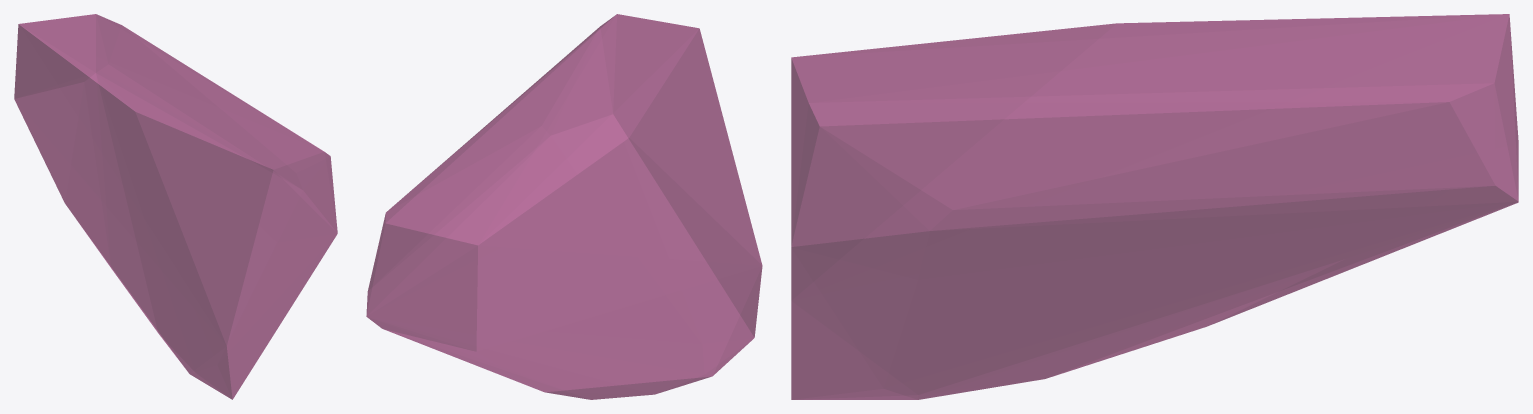
The picture shows the model from 3 angles, left to right: view 1: azimuth 30°, elevation 25°; view 2: azimuth 150°, elevation 25°; view 3: azimuth 270°, elevation 25°; orthographic projection. The views are drawn at different scales.
Parts seen in each view (by area): view 1: Shape_IndexedFaceSet.007_Shape_IndexedFaceSet.4761; view 2: Shape_IndexedFaceSet.007_Shape_IndexedFaceSet.4761; view 3: Shape_IndexedFaceSet.007_Shape_IndexedFaceSet.4761.
Boxes of the visible parts, x1,y1,x2,y2 form: Shape_IndexedFaceSet.007_Shape_IndexedFaceSet.4761: [14, 14, 337, 399]; Shape_IndexedFaceSet.007_Shape_IndexedFaceSet.4761: [366, 14, 762, 399]; Shape_IndexedFaceSet.007_Shape_IndexedFaceSet.4761: [791, 14, 1518, 399].
Bounding box in the file's own units: 0.1567 × 0.2862 × 0.4936.
